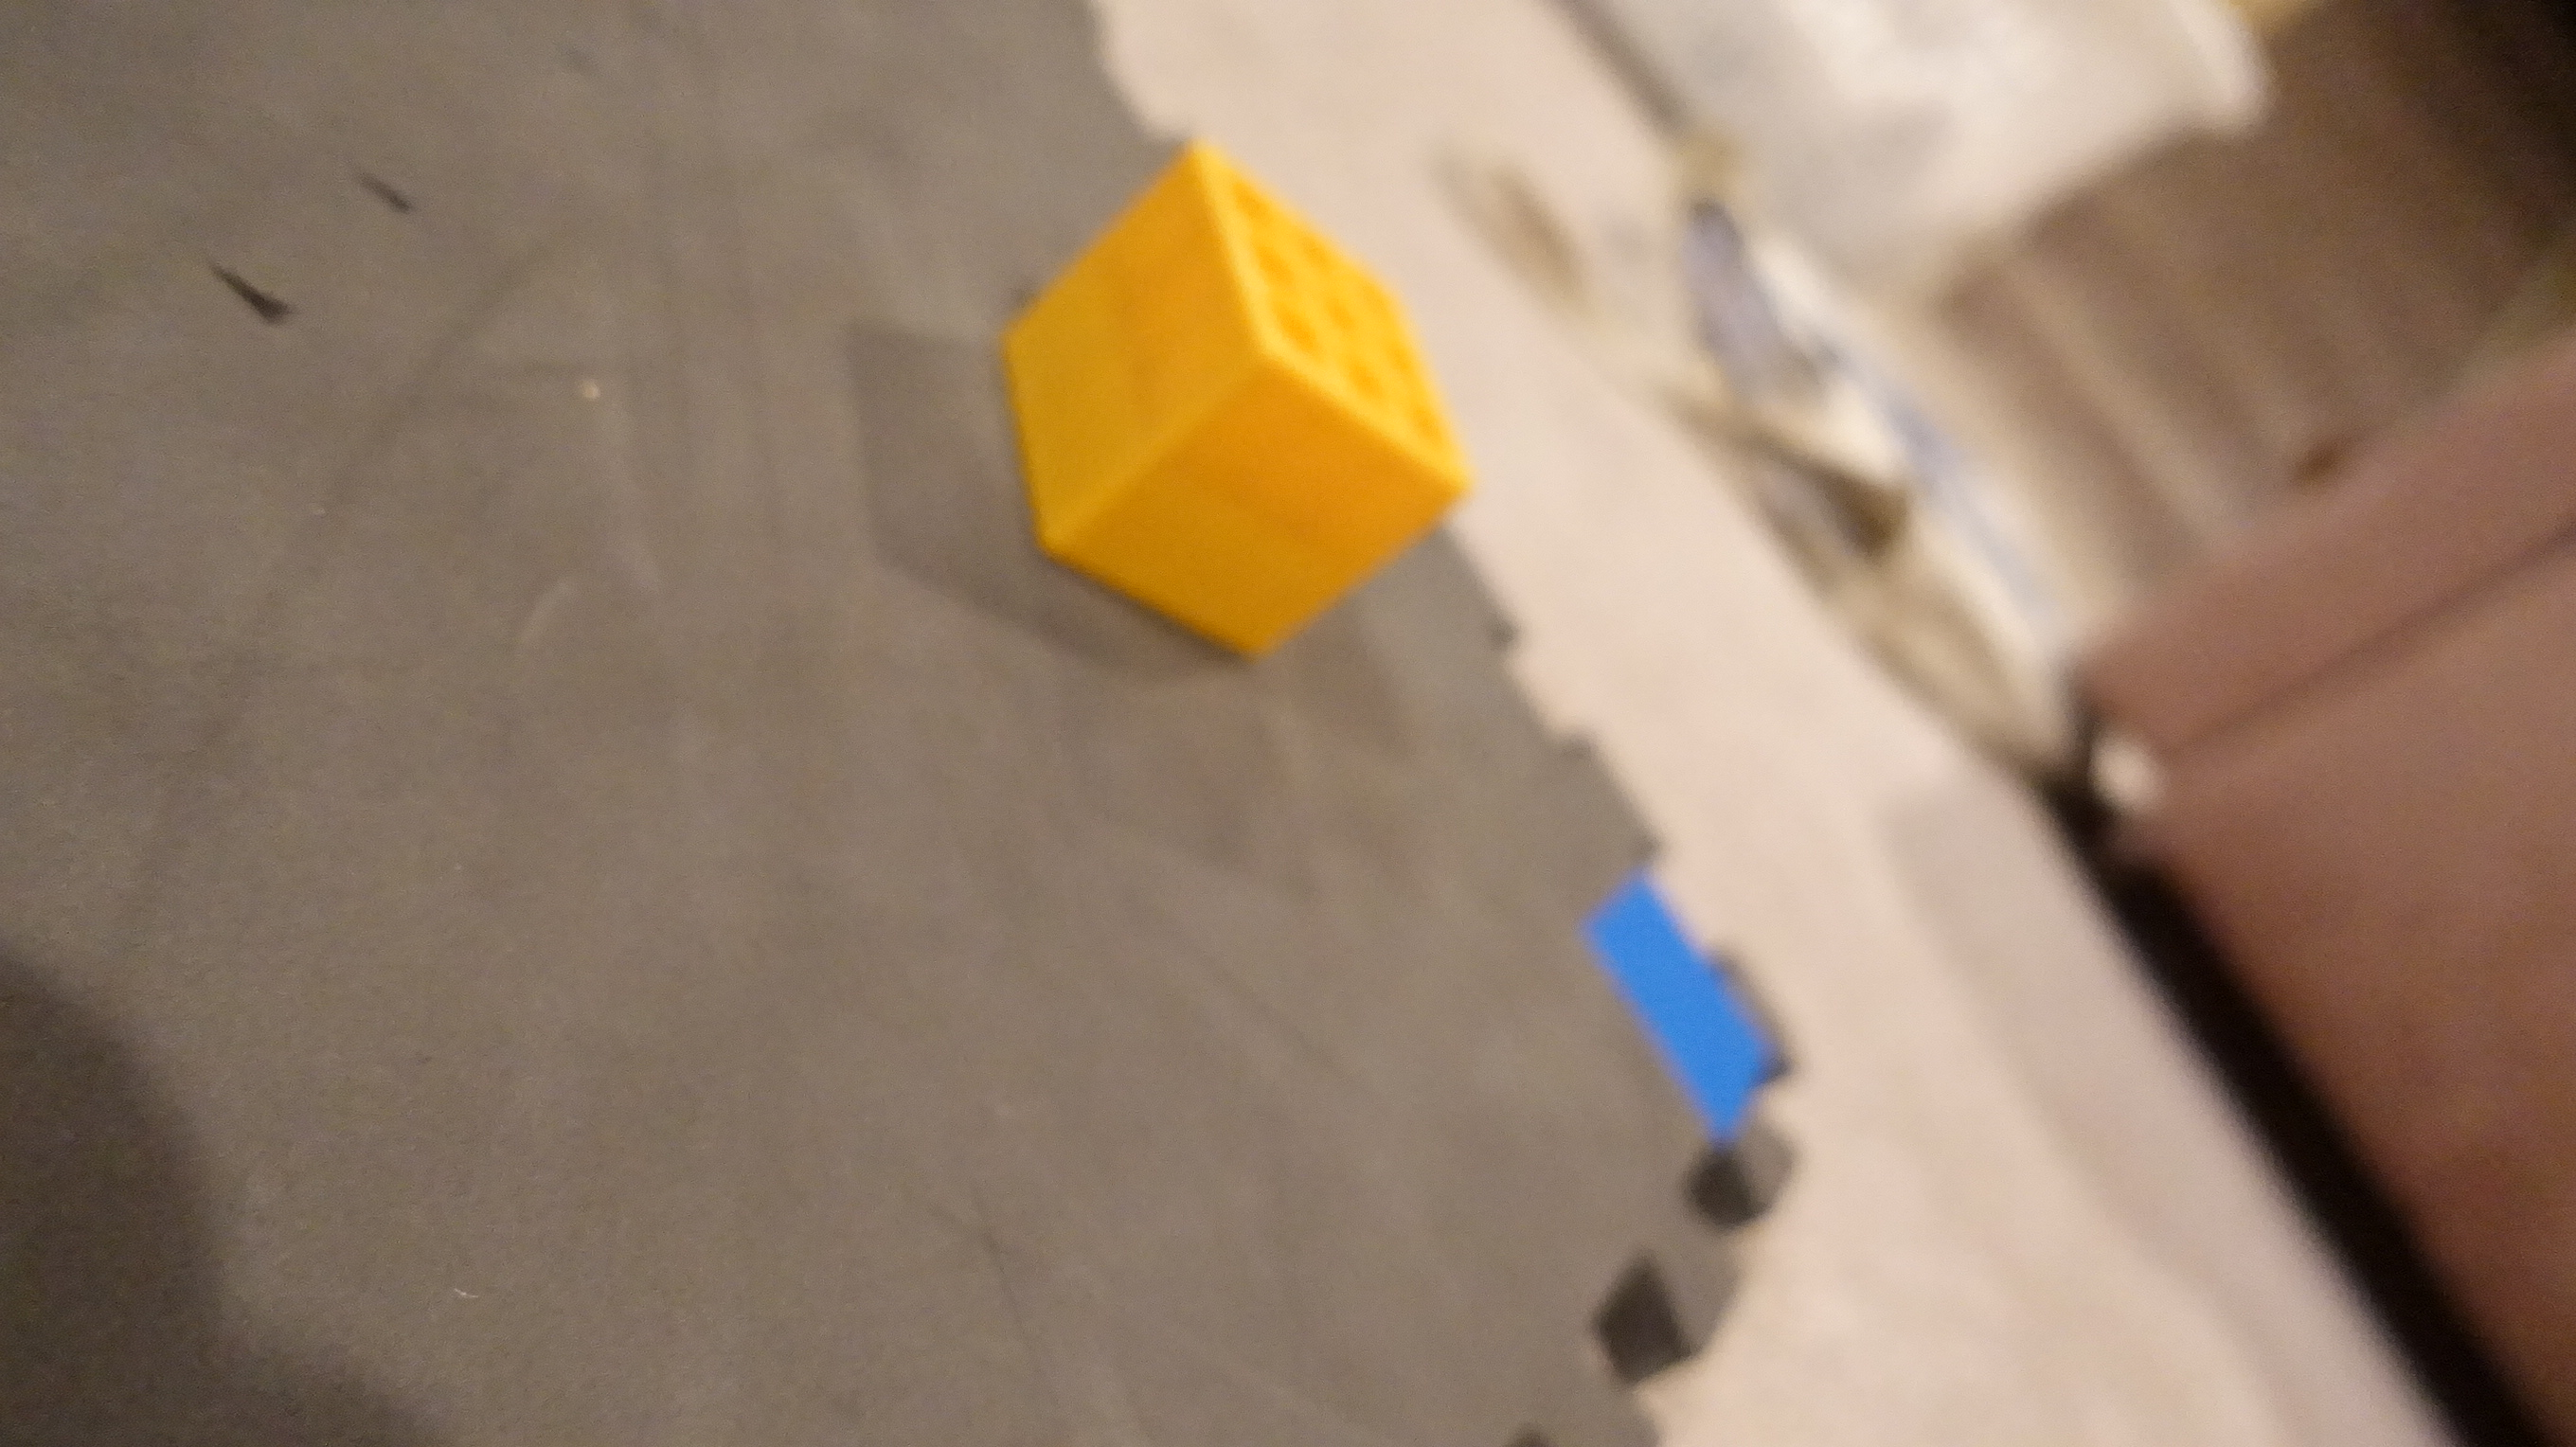gold: (1001, 136, 1484, 669)
